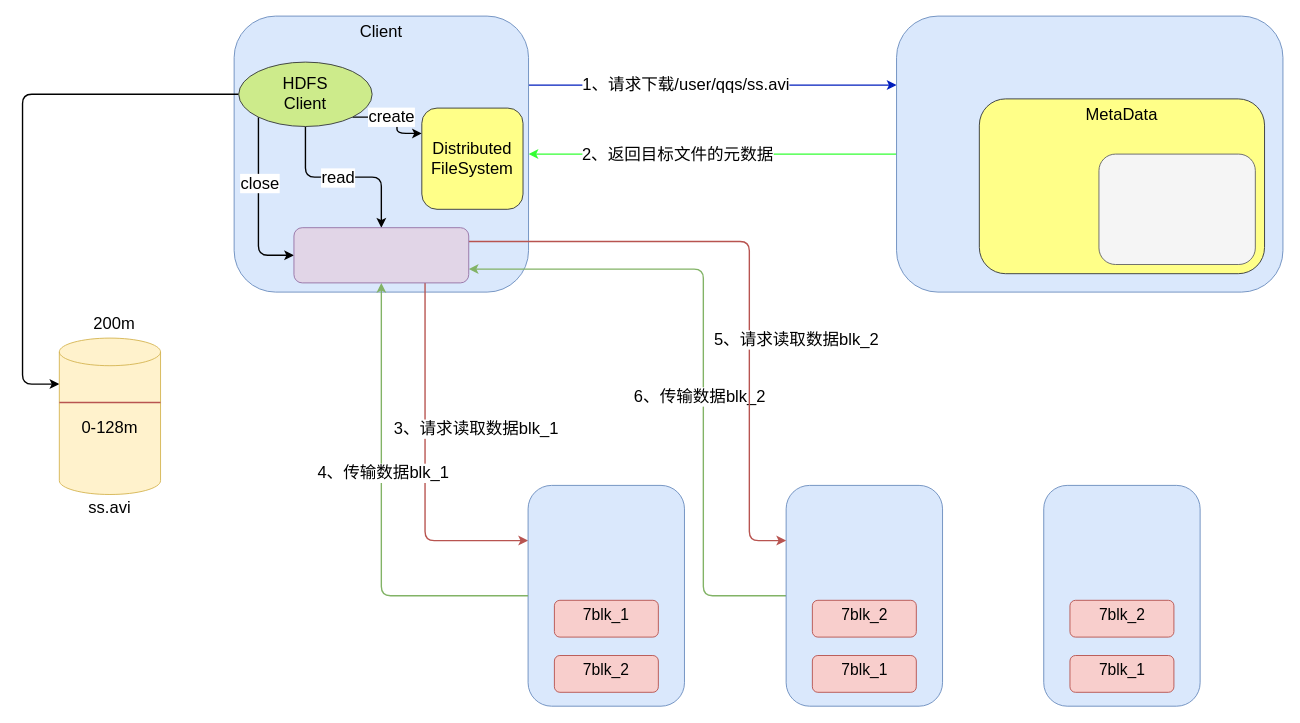
This 1300x723 diagram has some shape labels left out. Here are the shapes that lost their labels. From the top down, the box of each, then its label:
(896, 15, 1283, 292): NameNode
(1098, 153, 1255, 264): /user/qqs/ss.avi {[blk_1,blk_2], [blk_1,blk_2], [blk_1,blk_2]}
(293, 227, 469, 283): FSDataOutputStream
(527, 484, 684, 706): DataNode1
(785, 484, 943, 706): DataNode2
(1043, 484, 1200, 706): DataNode3
